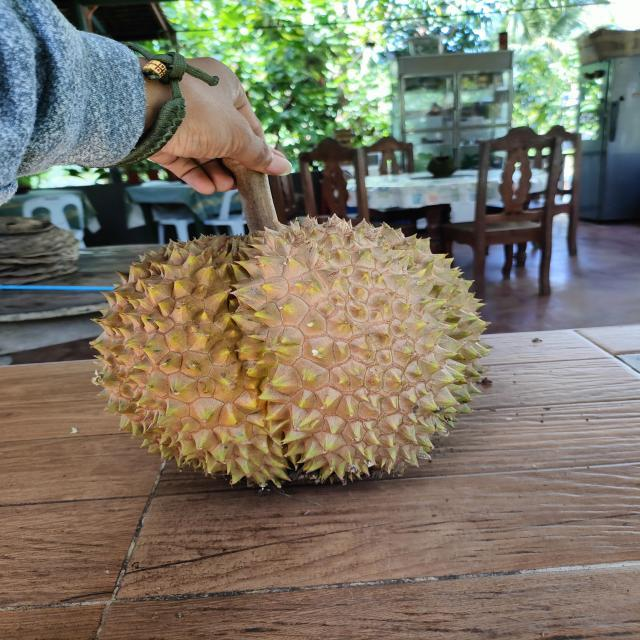mature: (92, 216, 489, 492)
